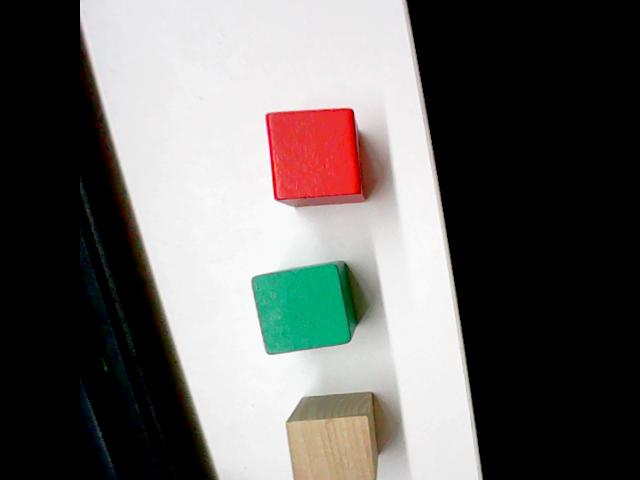green_box: (247, 258, 360, 357)
raw_box: (281, 389, 381, 480)
red_box: (261, 104, 368, 210)
